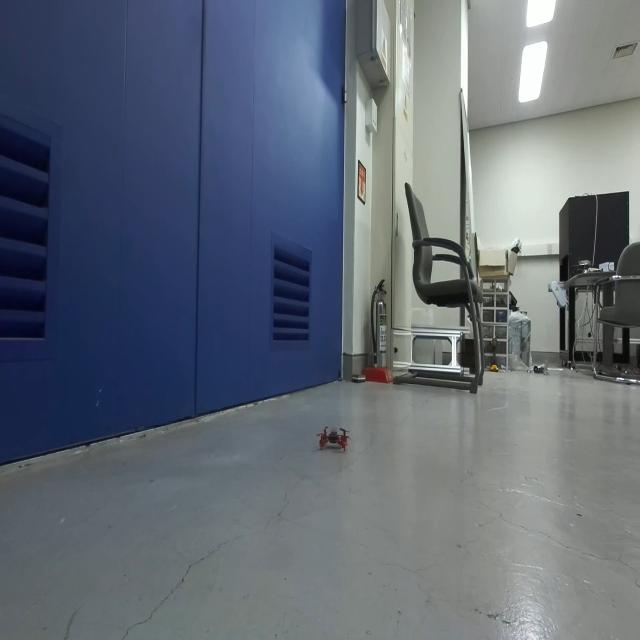crazyflie: (314, 421, 354, 457)
